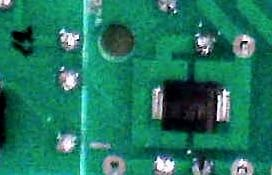diode: (153, 81, 228, 132)
